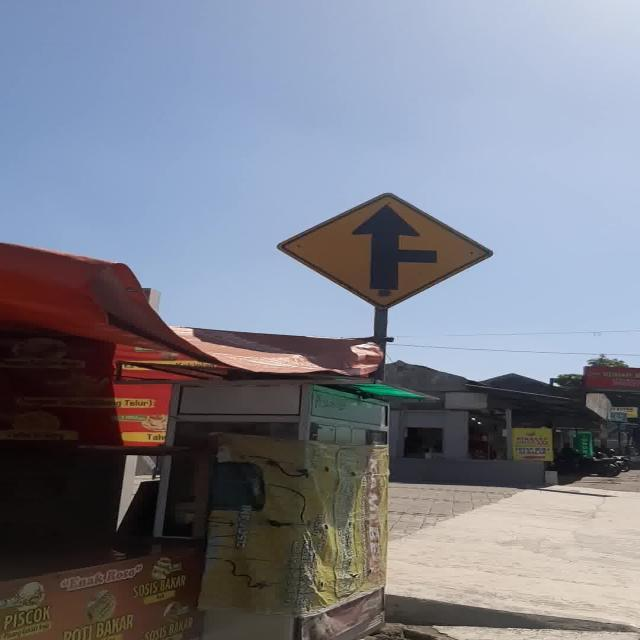Persimpangan 3 Prioritas Kanan: (276, 192, 494, 310)
